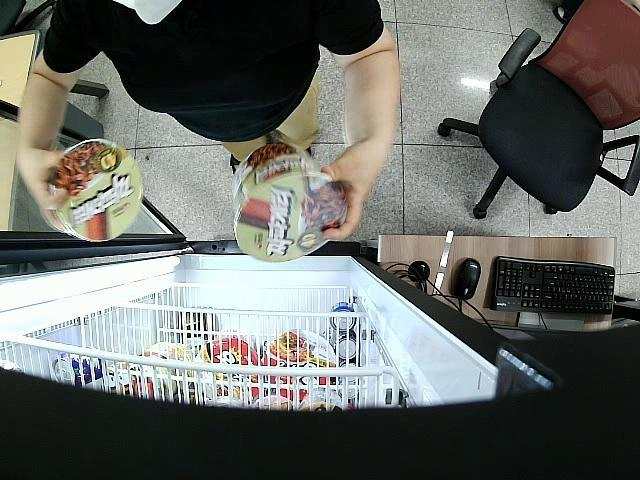03_chapagetti_L: (233, 144, 346, 262), (42, 139, 141, 244)
